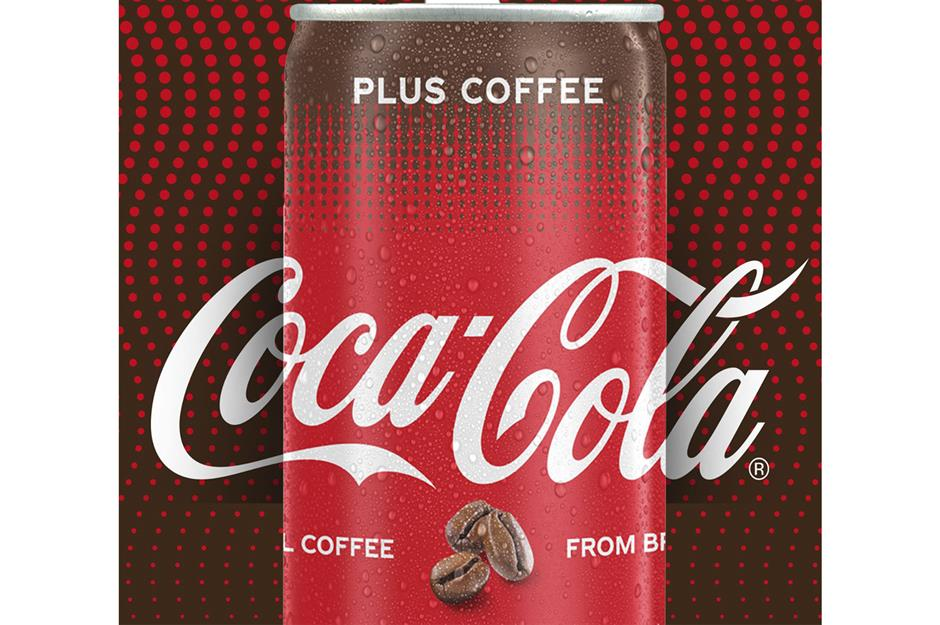Coca-Cola: (212, 20, 665, 616)
